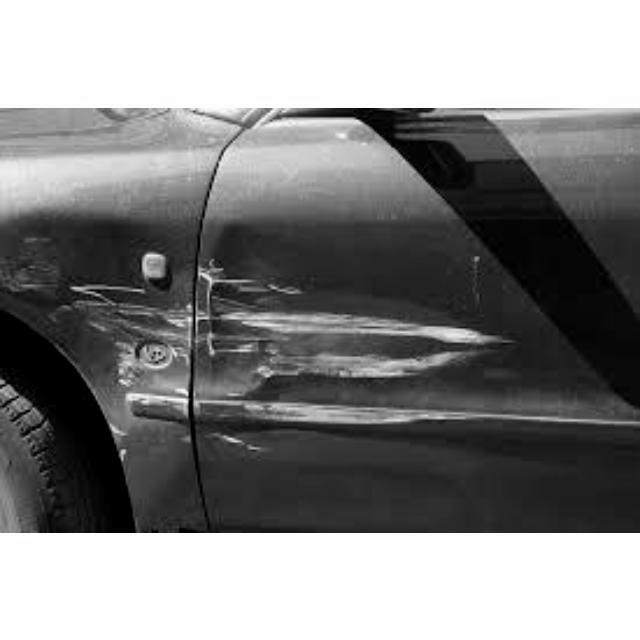bonnet-dent: (0, 143, 190, 468)
doorouter-dent: (214, 180, 616, 529)
